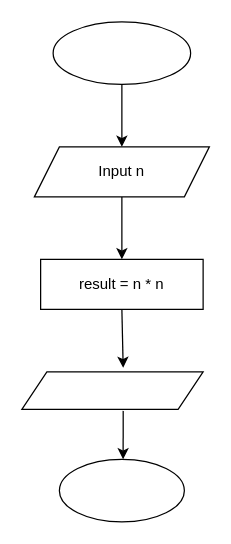
Image size: 231x544. Some labels were removed from this diagram. The shapes that lost their labels are listed below. From the top down, each one's centre as x and y in pixels, then its label:
At point (121, 52): "Start".
At point (112, 390): "Outtput".
